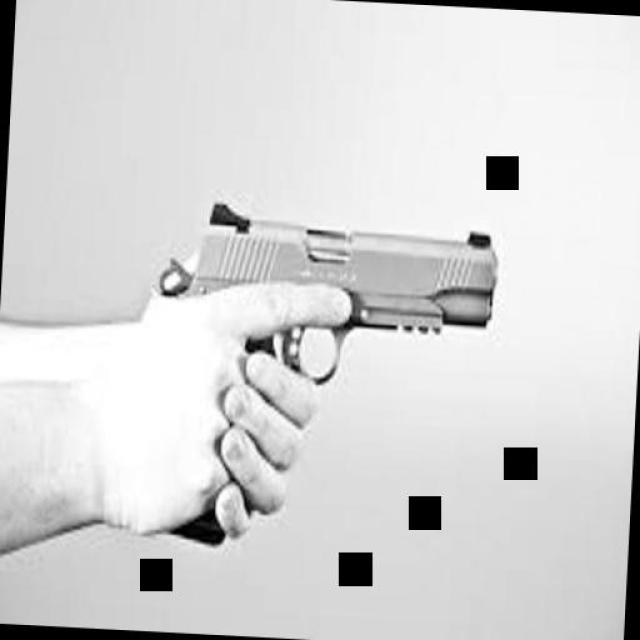gun: (130, 164, 506, 566)
